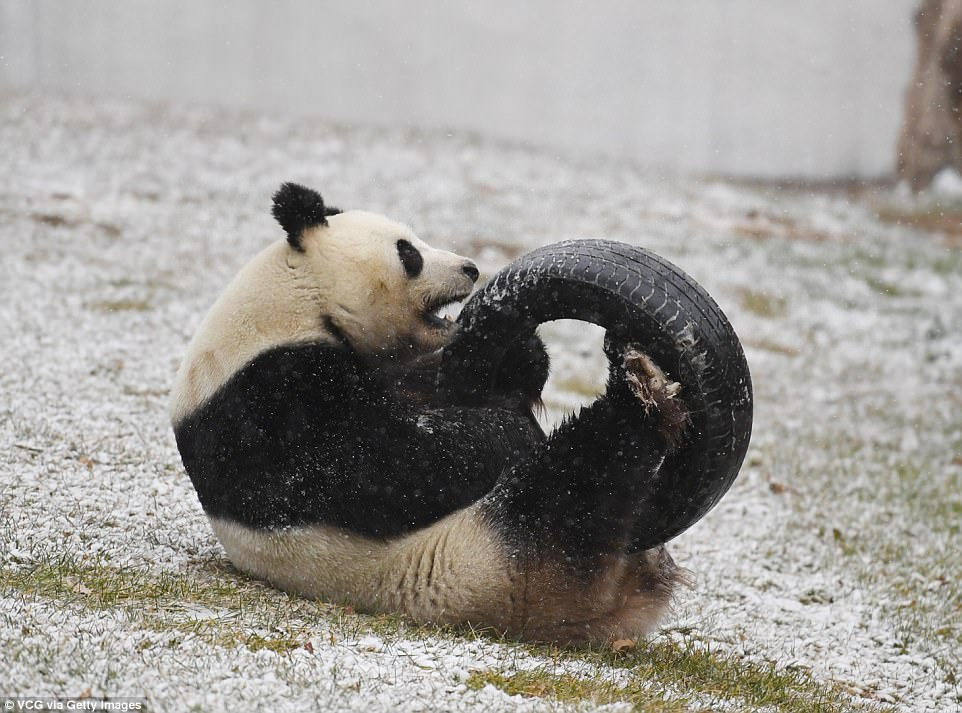panda: (165, 170, 763, 676)
